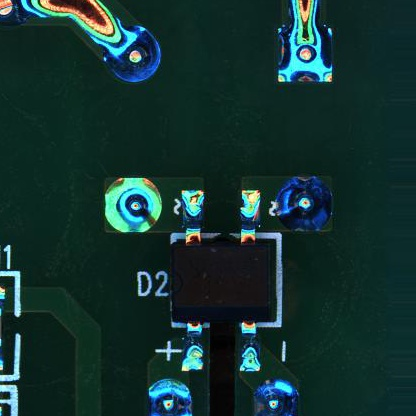spot: (269, 174, 335, 235), (102, 176, 165, 234), (277, 25, 333, 84), (105, 26, 165, 81), (148, 378, 194, 416), (252, 379, 299, 416)
